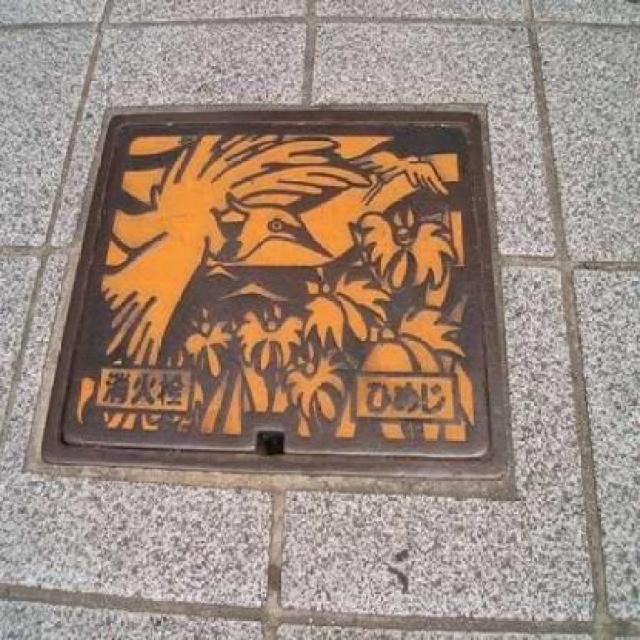Manhole: (31, 96, 526, 504)
